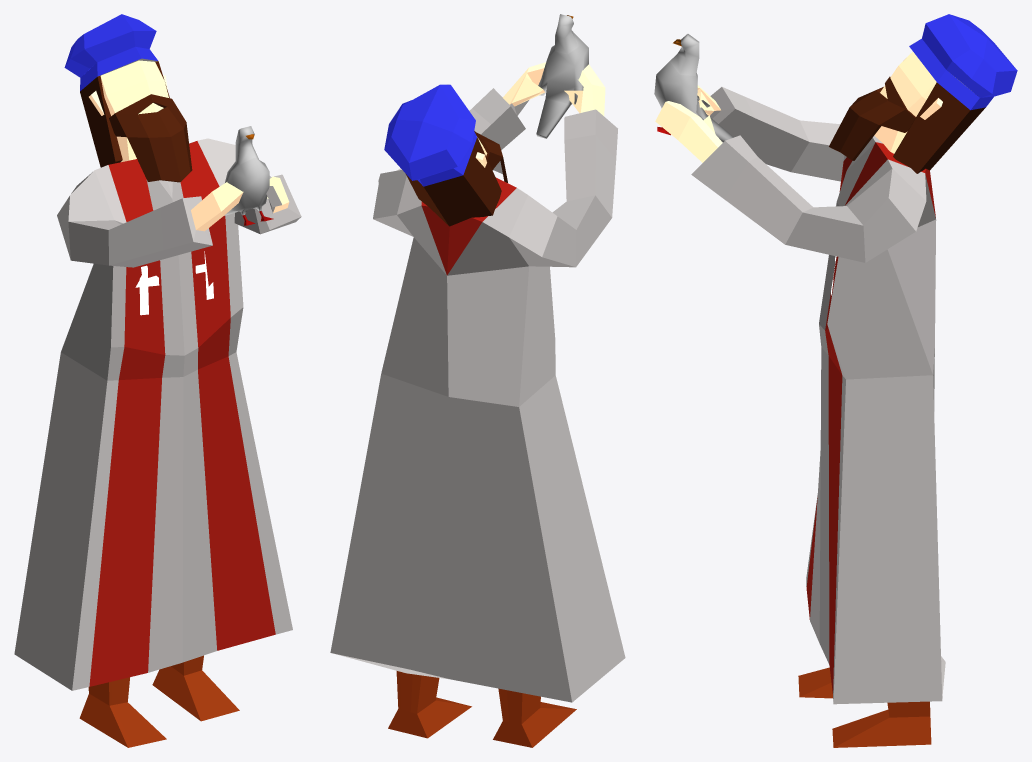
File: priest3.fbx
3 renders of one model, left to right at view 1: azimuth 30°, elevation 25°; view 2: azimuth 150°, elevation 25°; view 3: azimuth 270°, elevation 25°, orthographic. The views are drawn at different scales.
Visible parts, largest first — view 1: prophet; view 2: prophet; view 3: prophet.
Part boxes in pixels (left/top/right/bottom): prophet: left=14, top=14, right=301, bottom=747; prophet: left=330, top=14, right=625, bottom=747; prophet: left=654, top=14, right=1017, bottom=747.
Bounding box in the file's own units: 144 × 393 × 184.
